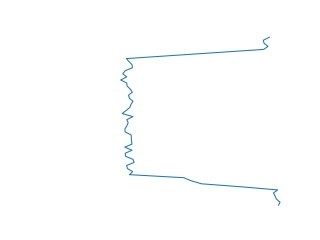distributaryChannelFill: (116, 35, 287, 206)
